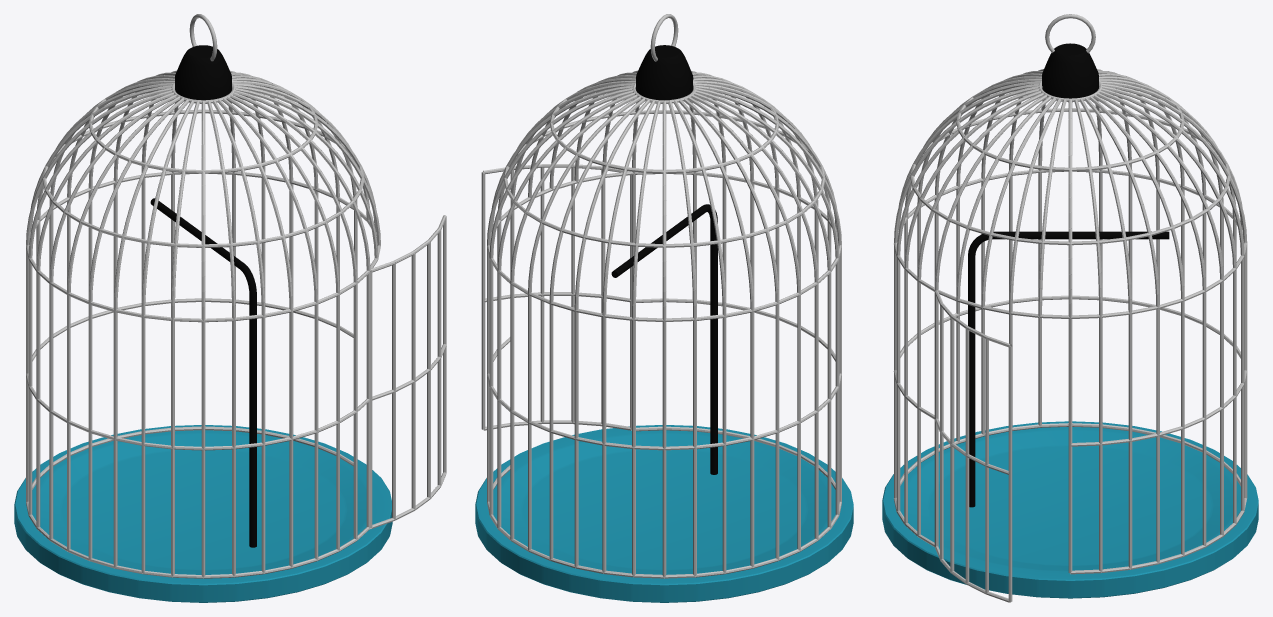
The model's file is birdcagev2.obj.
3 renders of one model, left to right at view 1: azimuth 30°, elevation 25°; view 2: azimuth 150°, elevation 25°; view 3: azimuth 270°, elevation 25°, orthographic.
Parts seen in each view (by area): view 1: Capsule001, Cylinder001, Object001, Rectangle001, Cylinder002; view 2: Capsule001, Cylinder001, Object001, Rectangle001, Cylinder002; view 3: Capsule001, Cylinder001, Object001, Rectangle001, Cylinder002.
Part boxes in pixels (bbox=[...]): Capsule001: bbox=[26, 70, 380, 578]; Cylinder001: bbox=[14, 425, 392, 602]; Object001: bbox=[370, 215, 446, 528]; Rectangle001: bbox=[150, 198, 256, 547]; Cylinder002: bbox=[175, 45, 231, 100]; Capsule001: bbox=[487, 70, 841, 578]; Cylinder001: bbox=[475, 425, 853, 602]; Object001: bbox=[481, 164, 632, 430]; Rectangle001: bbox=[611, 204, 717, 474]; Cylinder002: bbox=[635, 45, 693, 100]; Capsule001: bbox=[893, 69, 1247, 574]; Cylinder001: bbox=[882, 421, 1258, 598]; Object001: bbox=[934, 290, 1012, 602]; Rectangle001: bbox=[968, 231, 1169, 507]; Cylinder002: bbox=[1042, 43, 1098, 98].
Size of the model in its own units: 20.68 by 26.64 by 17.99.
